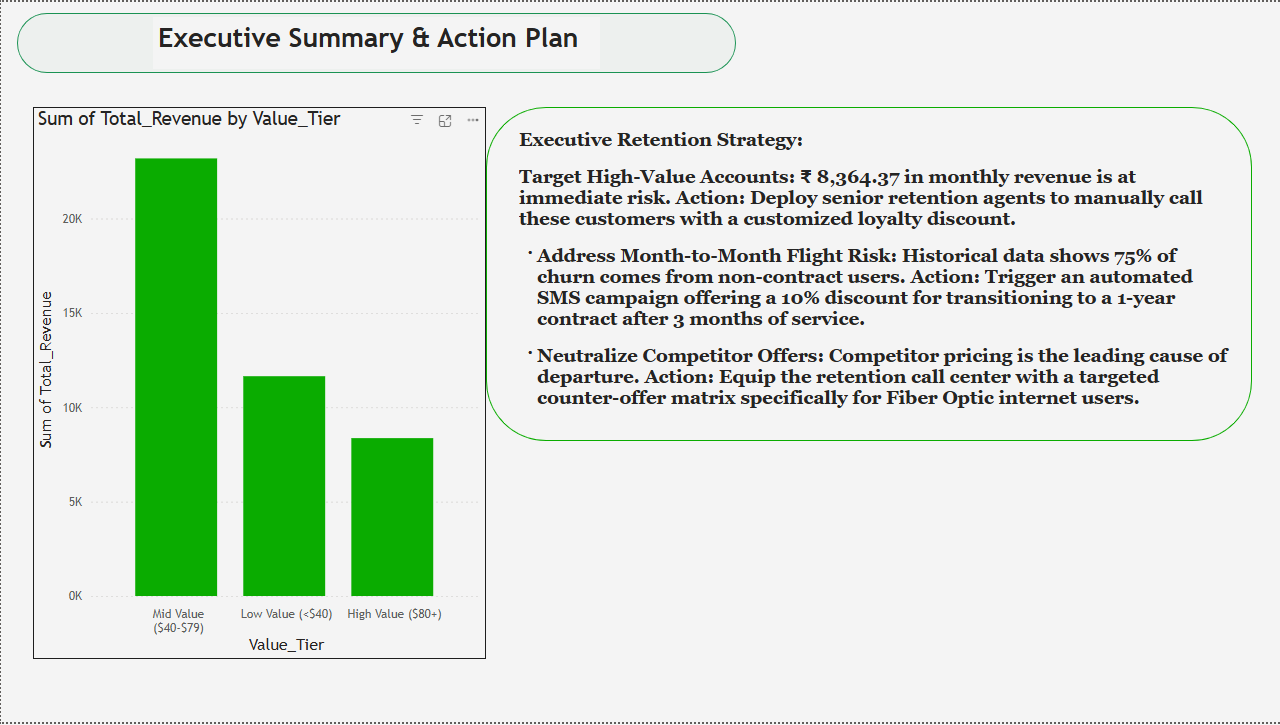

The dashboard page shown, as its layout file describes it:
{"tool":"powerbi","page":{"name":"Strategic Insights","canvas":[1280,720],"ordinal":2},"visuals":[{"type":"clusteredColumnChart","fields":{"Category":["Predictions.Value_Tier"],"Y":["Sum(Predictions.Total_Revenue)"]},"box":[31.9,105,452.7,552.5],"z":0},{"type":"textbox","box":[513.4,122.4,728.5,495.9],"z":1},{"type":"shape","box":[16.5,11.3,718.2,59.7],"z":2},{"type":"textbox","box":[152.3,15.4,446.6,51.4],"z":3},{"type":"shape","box":[484.6,105,766.6,334.4],"z":4}]}

Visuals, with their boxes in screenshot pixels (x1, y1, x2, y2), scaled from the page's 1280x720 canvas onto the 1280x725 screenshot:
clusteredColumnChart - Predictions.Value_Tier x Sum(Predictions.Total_Revenue): 32 106 485 662
textbox: 513 123 1242 623
shape: 16 11 735 71
textbox: 152 16 599 67
shape: 485 106 1251 442
